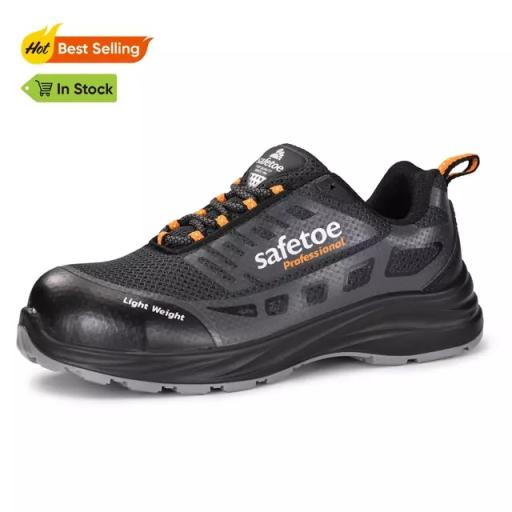safety_boots: (6, 151, 487, 392)
